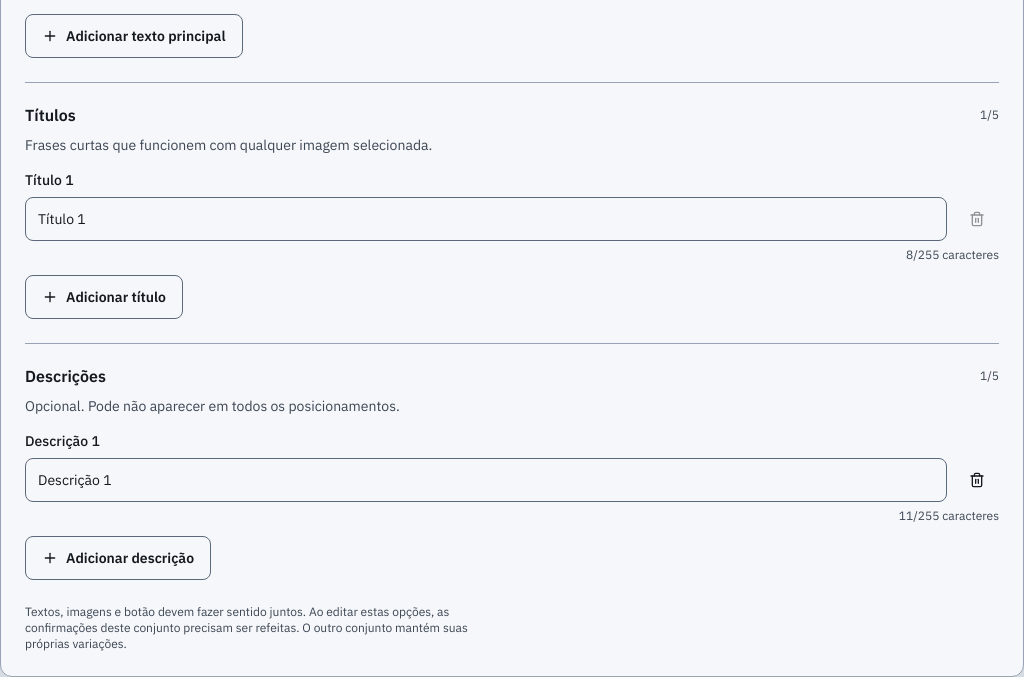
Test case: remover a única opção de descrição foca o botão Adicionar descrição
(page scrolled)
Click the button named "Remover descrição 1": (977, 480) [955,458,999,502]
(page scrolled)
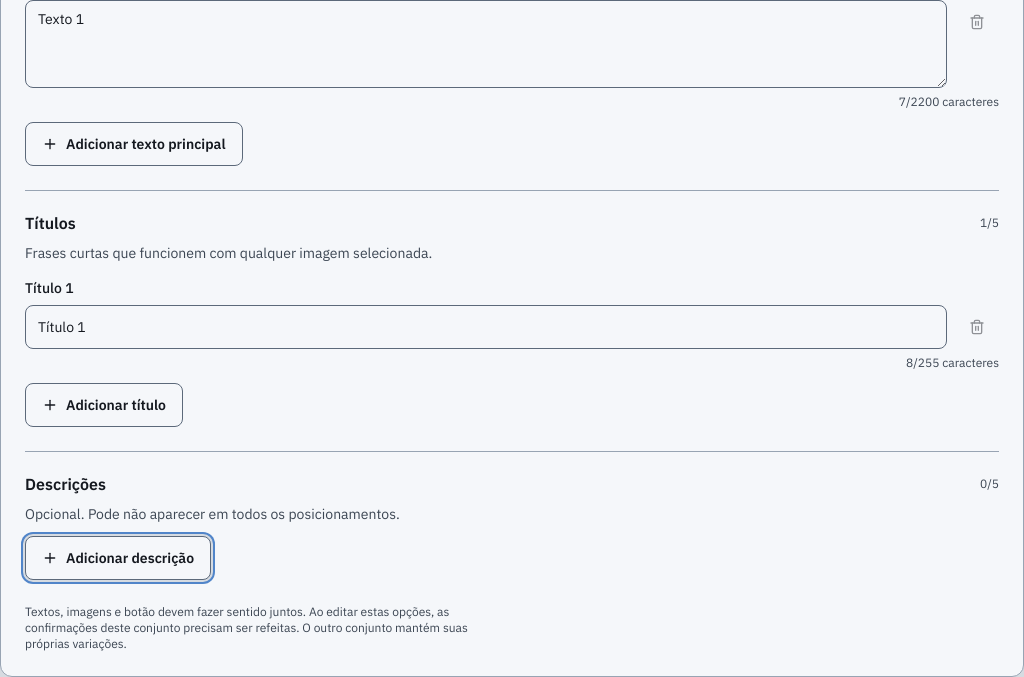
Expected: the label labelled "Descrição 1" is gone
